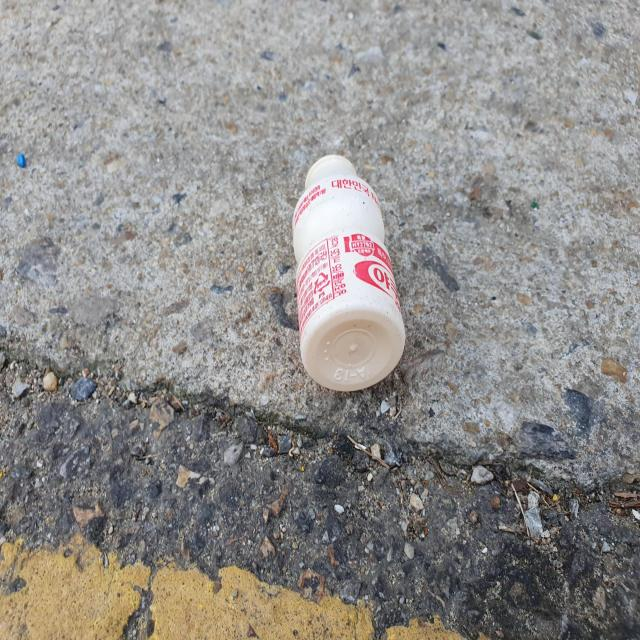plastic: (293, 154, 406, 391)
